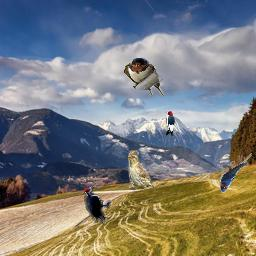Sparrow: (128, 150, 154, 190)
Swallow: (124, 57, 164, 96), (219, 153, 252, 193)
Woodpecker: (84, 185, 111, 224), (165, 110, 175, 137)
